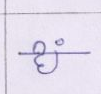anusvara: (55, 39, 64, 46)
